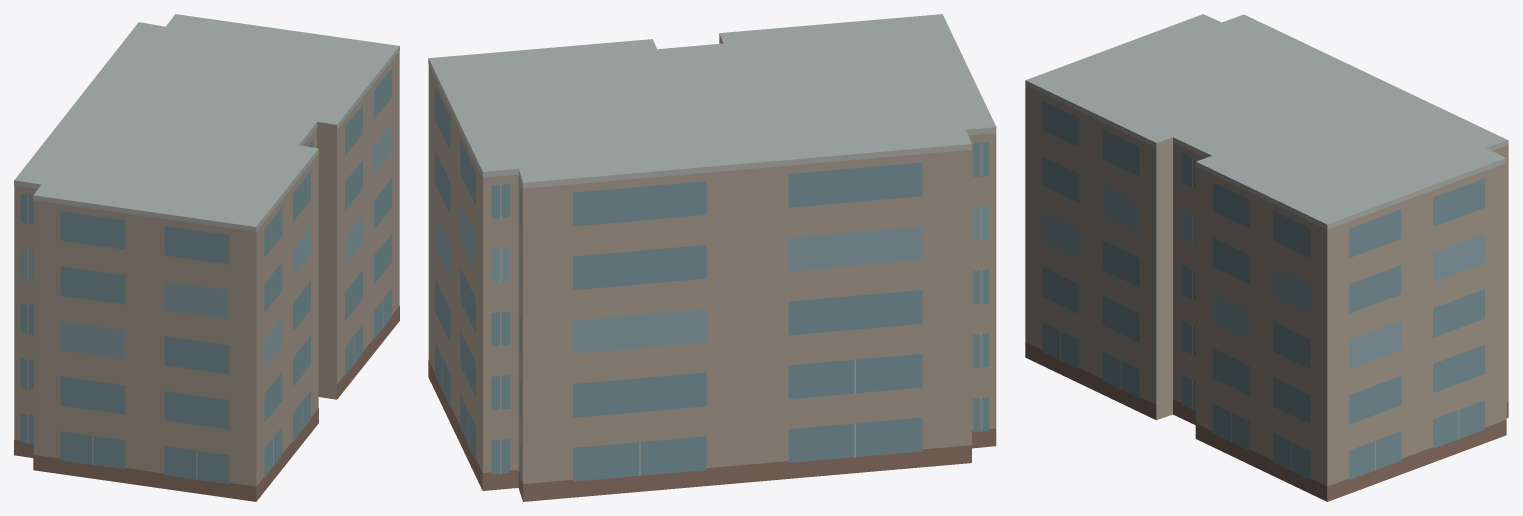
File: survey-upis-32793640.glb
3 views of the same model, side by side, from view 1: azimuth 30°, elevation 25°; view 2: azimuth 150°, elevation 25°; view 3: azimuth 270°, elevation 25° (orthographic). The views are drawn at different scales.
Parts seen in each view (by area): view 1: survey-upis-32793640.tmp; view 2: survey-upis-32793640.tmp; view 3: survey-upis-32793640.tmp.
Boxes of the visible parts, x1,y1,x2,y2 form: survey-upis-32793640.tmp: [14, 14, 399, 501]; survey-upis-32793640.tmp: [428, 14, 996, 501]; survey-upis-32793640.tmp: [1025, 14, 1508, 501].
Bounding box in the file's own units: 22 × 13.5 × 21.33.
